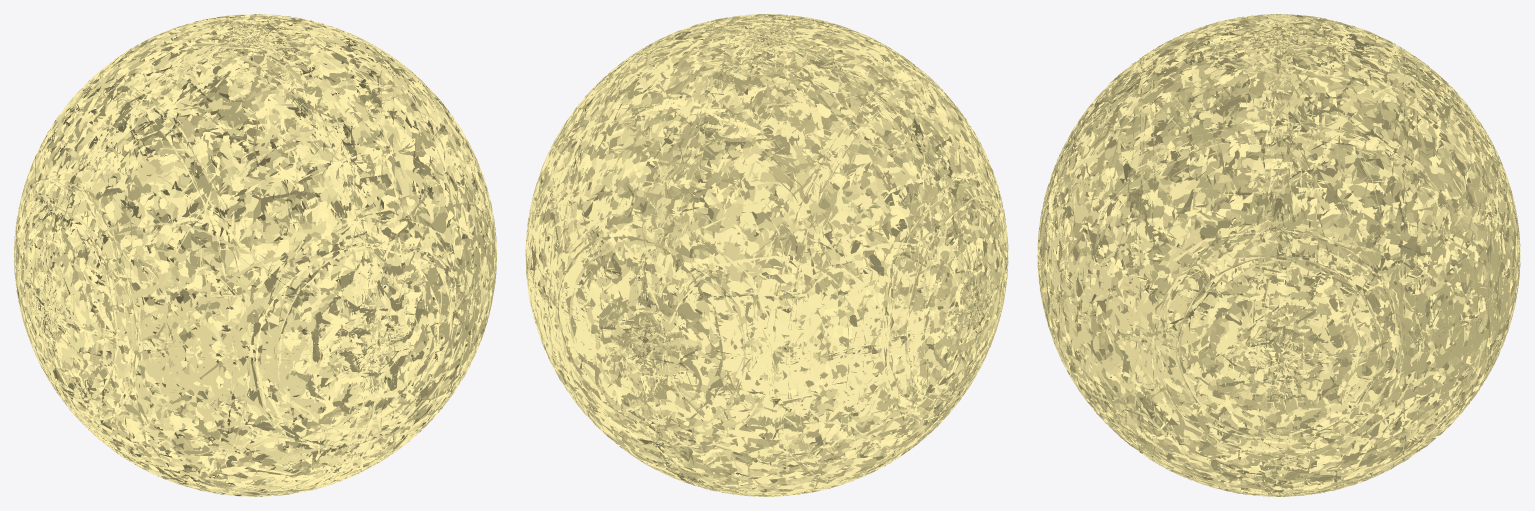
Rendered from sys-md-lighting.glb.
3 renders of one model, left to right at view 1: azimuth 30°, elevation 25°; view 2: azimuth 150°, elevation 25°; view 3: azimuth 270°, elevation 25°, orthographic.
Parts seen in each view (by area): view 1: TS-md-lighting-1685, TS-md-lighting-1686, TS-md-lighting-1688, TS-md-lighting-1687; view 2: TS-md-lighting-1685, TS-md-lighting-1686, TS-md-lighting-1688, TS-md-lighting-1687; view 3: TS-md-lighting-1685, TS-md-lighting-1686, TS-md-lighting-1688.
Boxes of the visible parts, left/top/right/bottom form: TS-md-lighting-1685: left=14, top=14, right=496, bottom=496; TS-md-lighting-1686: left=14, top=14, right=496, bottom=496; TS-md-lighting-1688: left=14, top=14, right=496, bottom=496; TS-md-lighting-1687: left=15, top=25, right=488, bottom=486; TS-md-lighting-1685: left=525, top=14, right=1008, bottom=496; TS-md-lighting-1686: left=525, top=14, right=1007, bottom=496; TS-md-lighting-1688: left=526, top=14, right=1008, bottom=496; TS-md-lighting-1687: left=535, top=20, right=1008, bottom=493; TS-md-lighting-1685: left=1037, top=14, right=1520, bottom=496; TS-md-lighting-1686: left=1037, top=14, right=1520, bottom=496; TS-md-lighting-1688: left=1037, top=14, right=1520, bottom=496.
Bounding box in the file's own units: 2 × 2 × 2.
